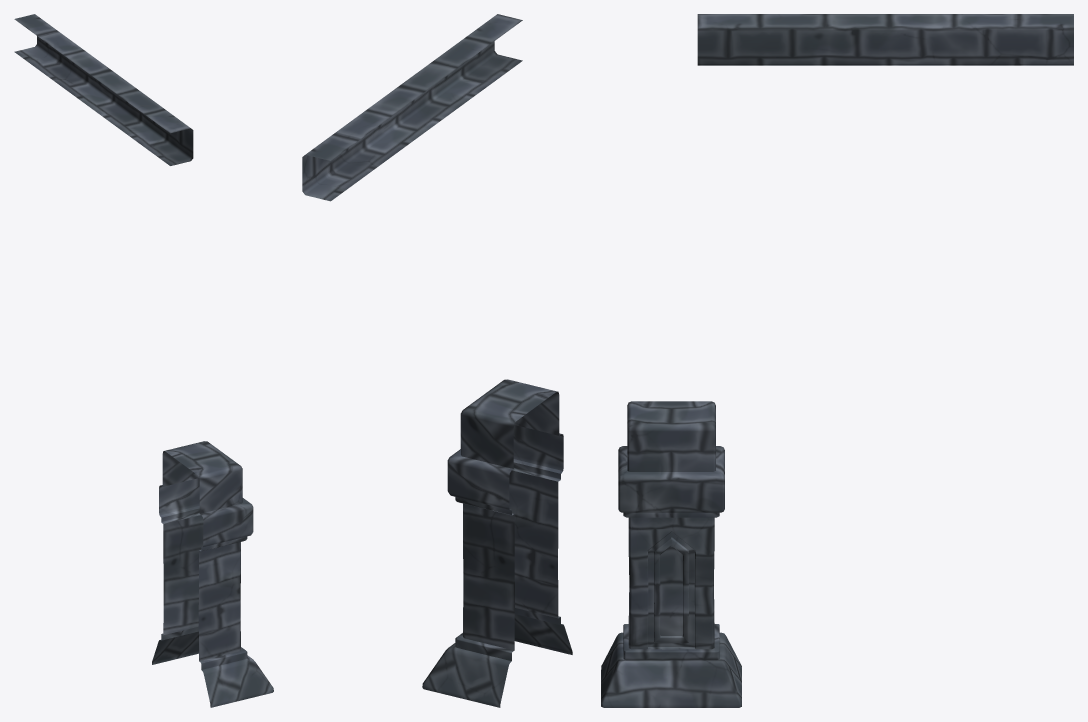
File: MedievalWall2.fbx
3 renders of one model, left to right at view 1: azimuth 30°, elevation 25°; view 2: azimuth 150°, elevation 25°; view 3: azimuth 270°, elevation 25°, orthographic. The views are drawn at different scales.
Parts seen in each view (by area): view 1: pCube1, polySurface1; view 2: pCube1, polySurface1; view 3: pCube1, polySurface1.
Boxes of the visible parts, <box> form: pCube1: <box>152,441,273,707</box>; polySurface1: <box>14,14,193,165</box>; pCube1: <box>422,379,572,707</box>; polySurface1: <box>302,14,522,201</box>; pCube1: <box>601,401,741,707</box>; polySurface1: <box>697,14,1073,65</box>.
Size of the model in its own units: 4.14 by 33.46 by 21.85.
1 material, 1 textured.
